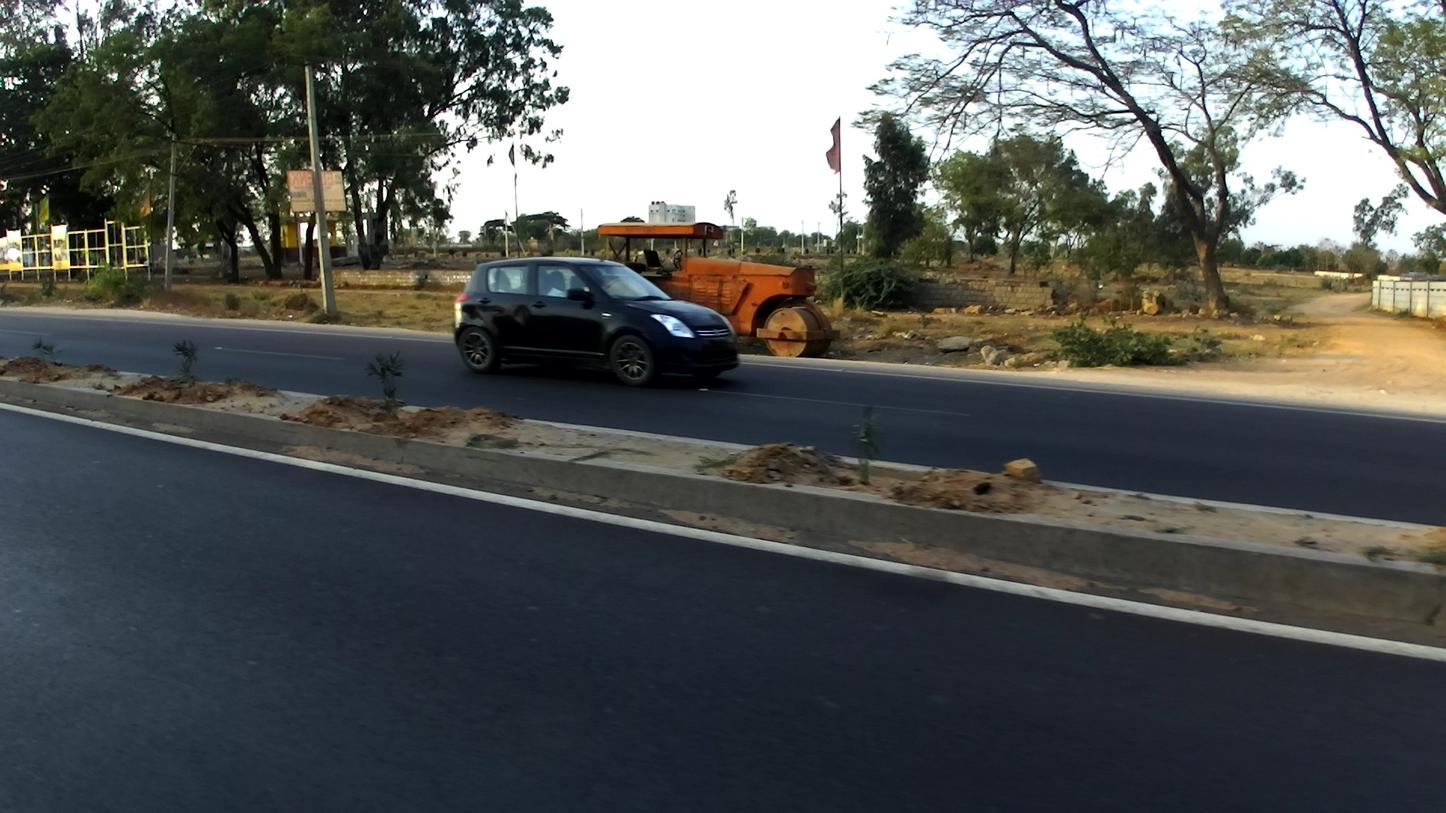car: (453, 258, 740, 385)
vehicle fallback: (598, 221, 841, 358)
